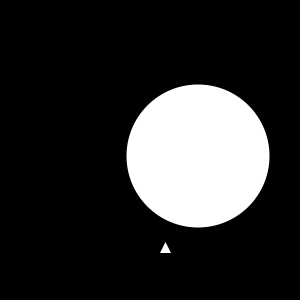rectangle: (126, 84, 270, 228)
triangle: (160, 242, 171, 253)
